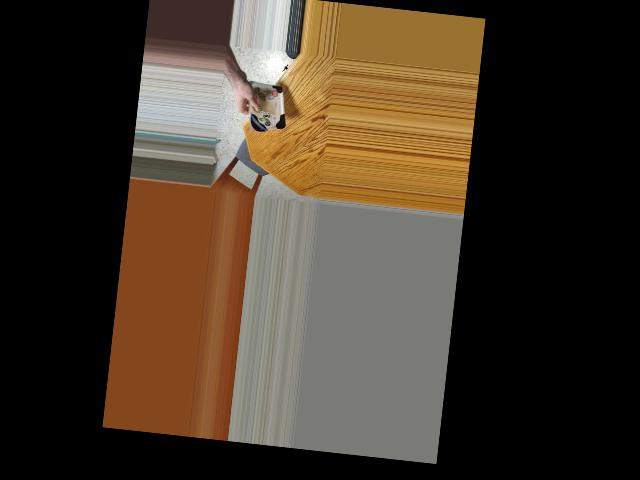cheese: (240, 79, 290, 135)
